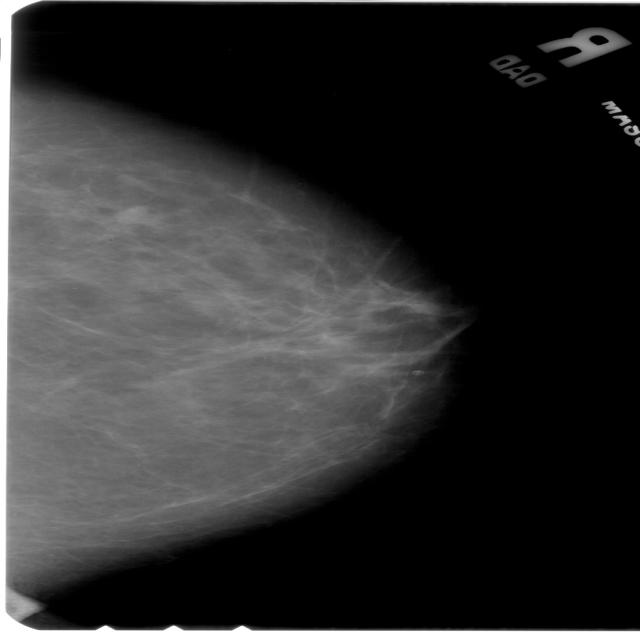normal: (0, 28, 473, 602)
